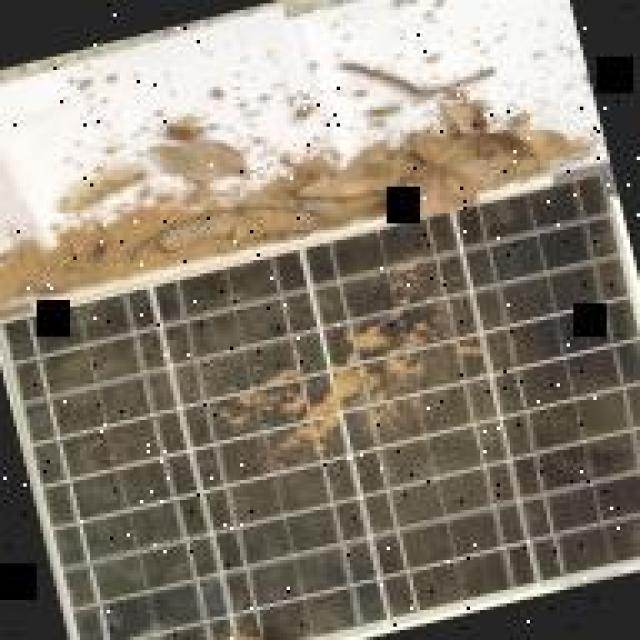dust-solar-panel: (0, 165, 640, 639)
